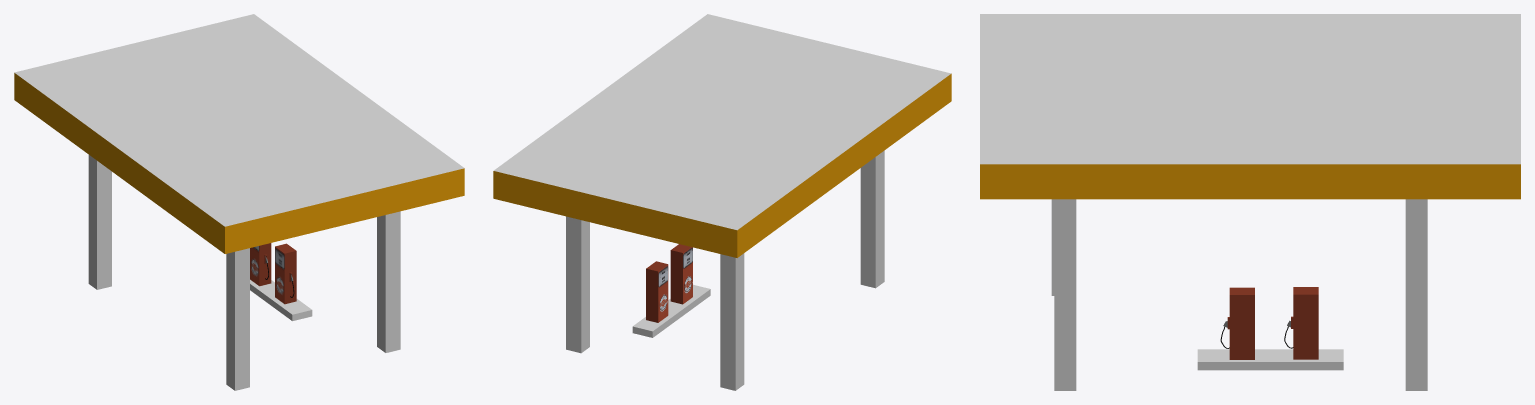
The model's file is FuelStation1.fbx.
The picture shows the model from 3 angles, left to right: view 1: azimuth 30°, elevation 25°; view 2: azimuth 150°, elevation 25°; view 3: azimuth 270°, elevation 25°; orthographic projection. The views are drawn at different scales.
Parts seen in each view (by area): view 1: fuel_station; view 2: fuel_station; view 3: fuel_station.
Part boxes in pixels (left/top/right/bottom): fuel_station: left=14, top=14, right=464, bottom=390; fuel_station: left=493, top=14, right=951, bottom=390; fuel_station: left=980, top=14, right=1520, bottom=390.
Bounding box in the file's own units: 1206 × 931 × 1834.
Materials: 6 (1 with a texture image).
